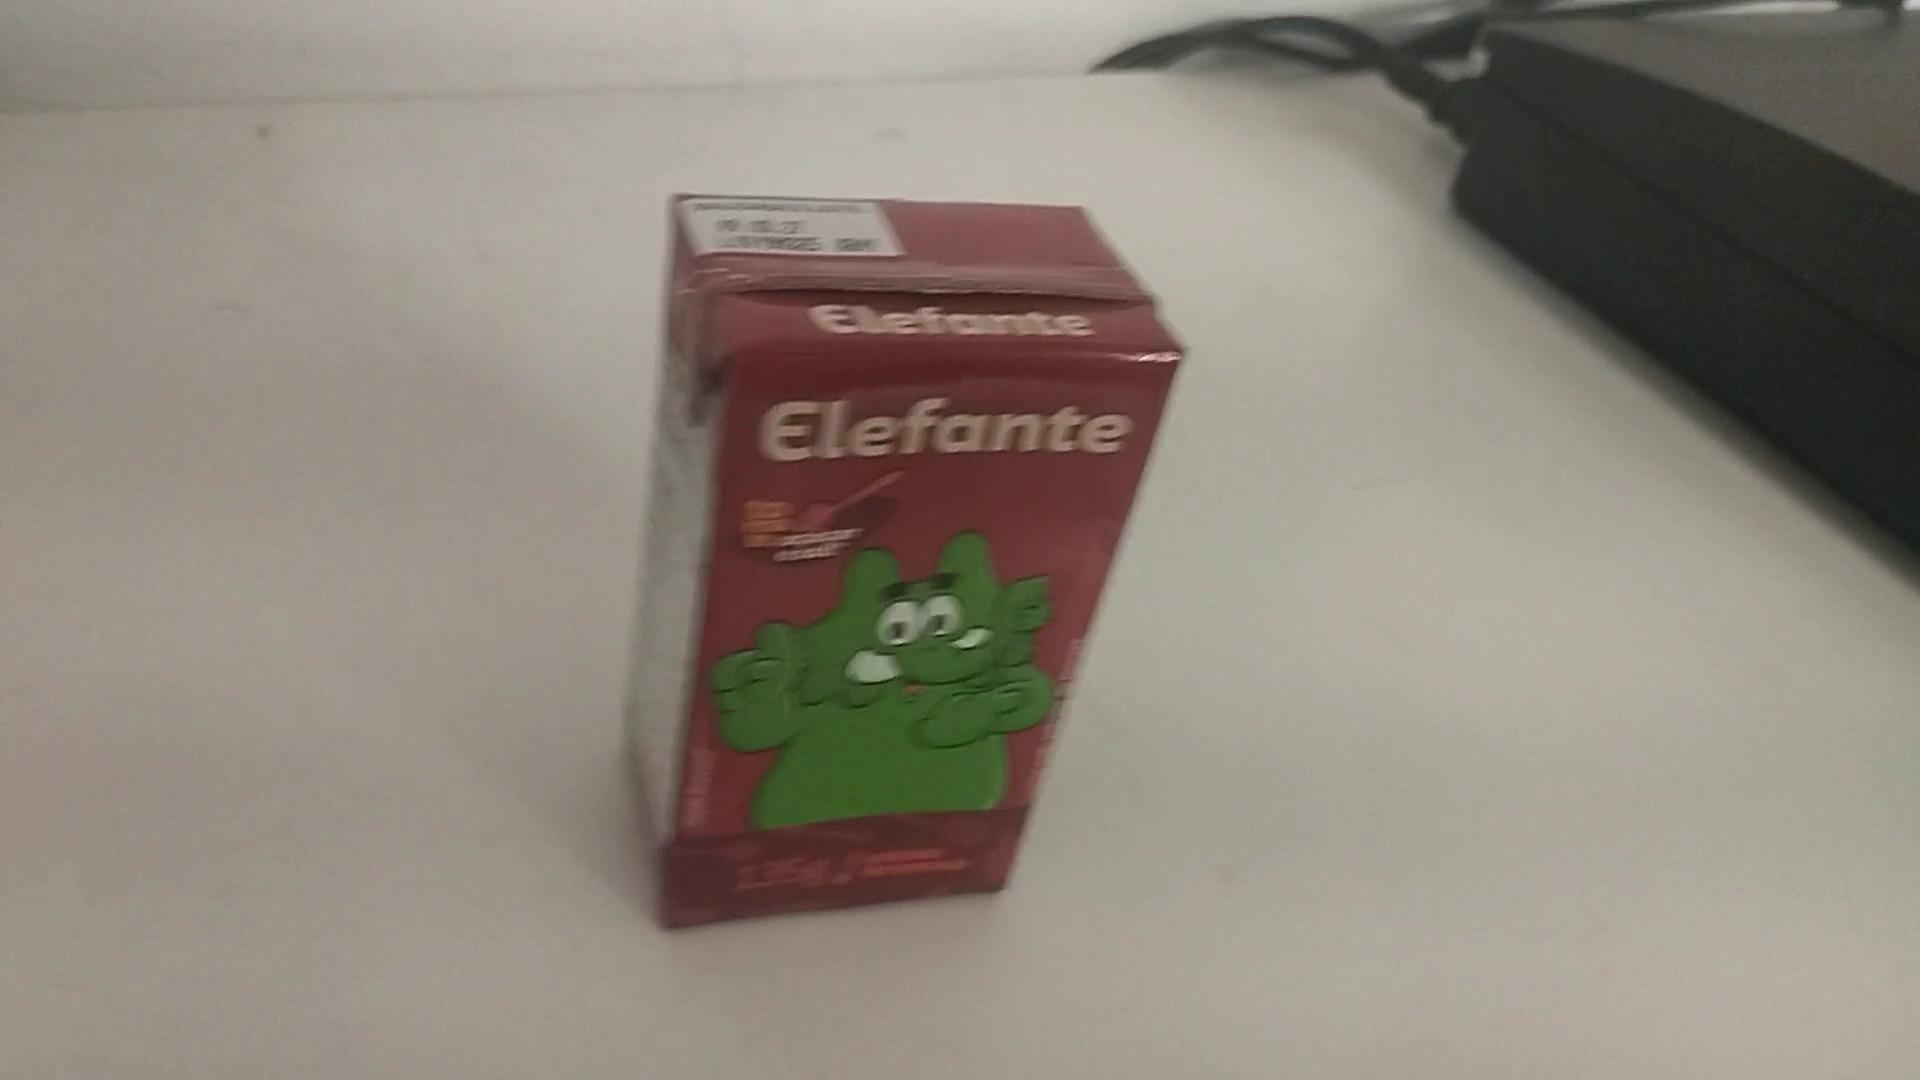tomate: (625, 193, 1188, 935)
